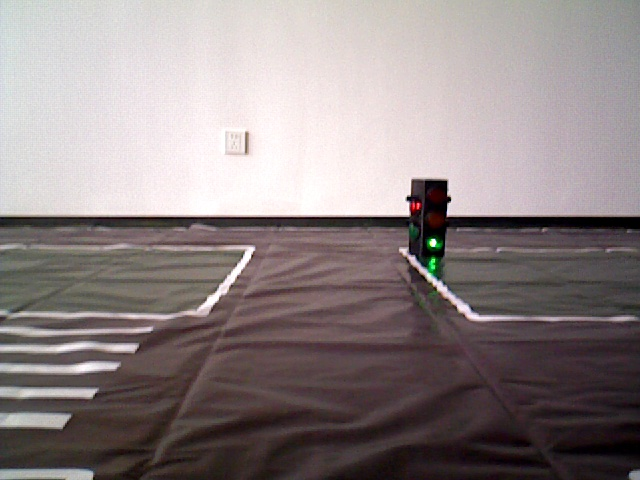green: (411, 177, 442, 253)
